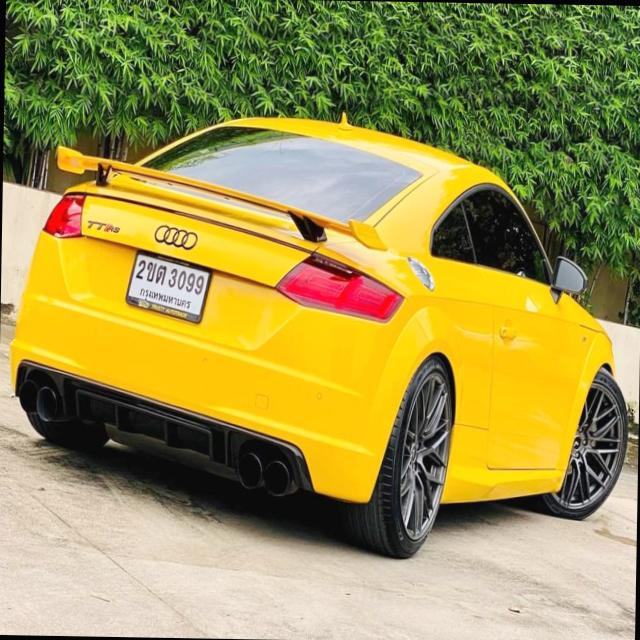license_plate: (124, 245, 214, 328)
